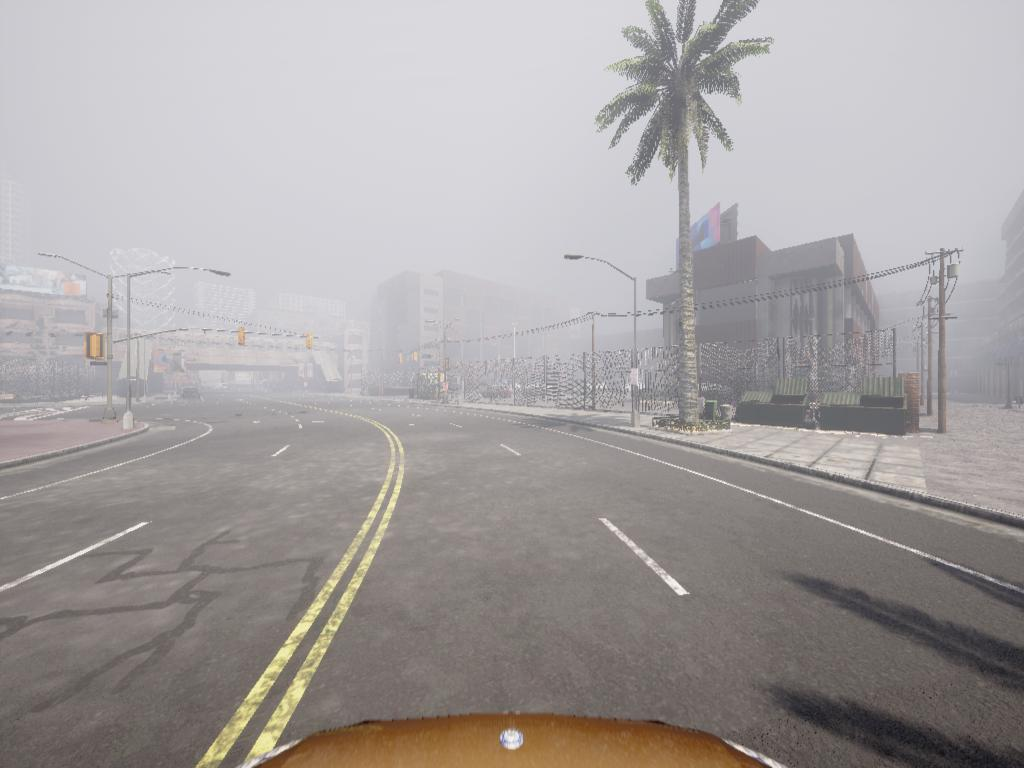traffic_light: (85, 332, 106, 358), (236, 327, 247, 347), (307, 332, 317, 349)
